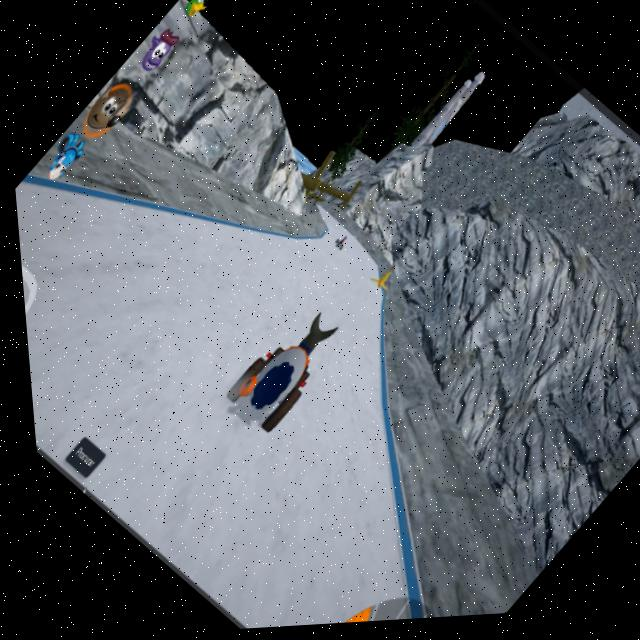enemy_kart: (324, 235, 347, 258)
obstacle: (354, 260, 400, 305)
off_track: (128, 59, 302, 229)
player_kart: (198, 305, 348, 452)
track: (47, 205, 324, 477), (292, 240, 358, 305)
